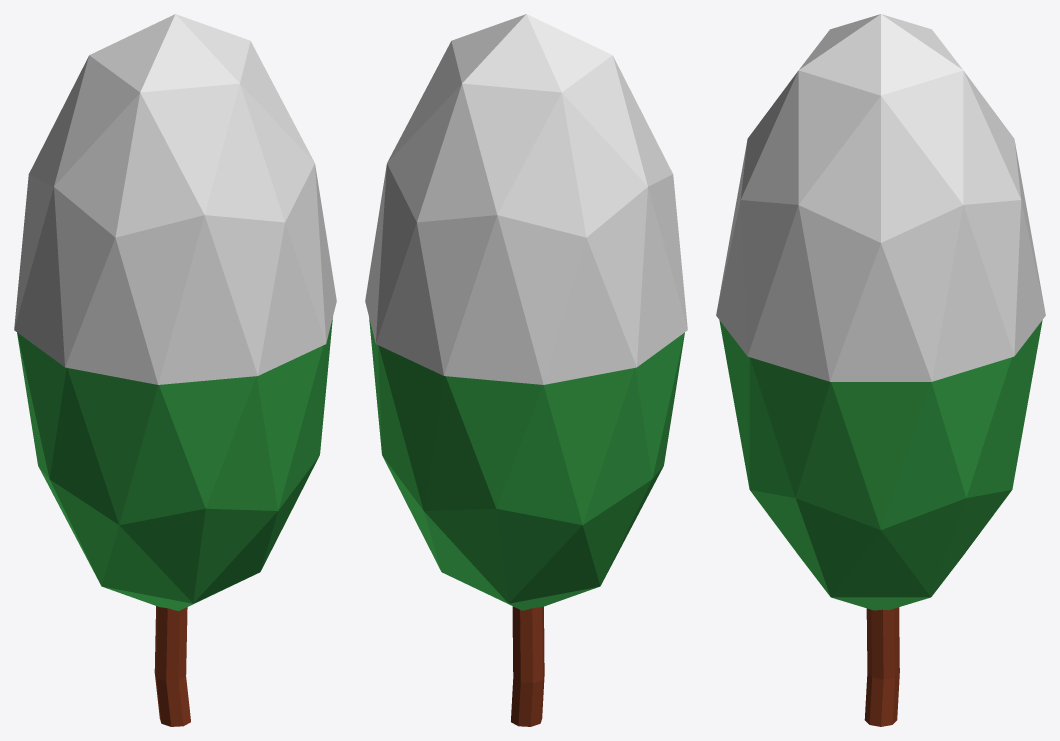
File: tree.011.fbx
3 renders of one model, left to right at view 1: azimuth 30°, elevation 25°; view 2: azimuth 150°, elevation 25°; view 3: azimuth 270°, elevation 25°, orthographic.
Visible parts, largest first — view 1: Tree.011; view 2: Tree.011; view 3: Tree.011.
Boxes of the visible parts, bbox=[...] form: Tree.011: bbox=[14, 14, 336, 726]; Tree.011: bbox=[365, 14, 687, 726]; Tree.011: bbox=[716, 14, 1045, 726].
Size of the model in its own units: 386 by 959 by 406.
